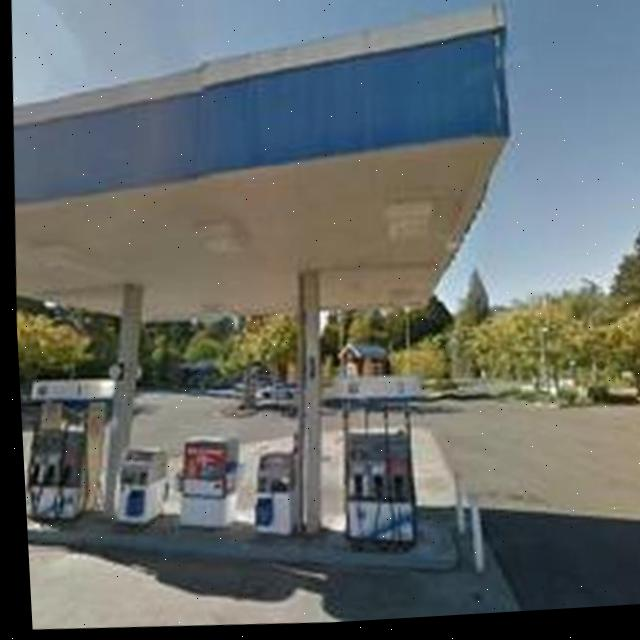building: (0, 0, 543, 585)
